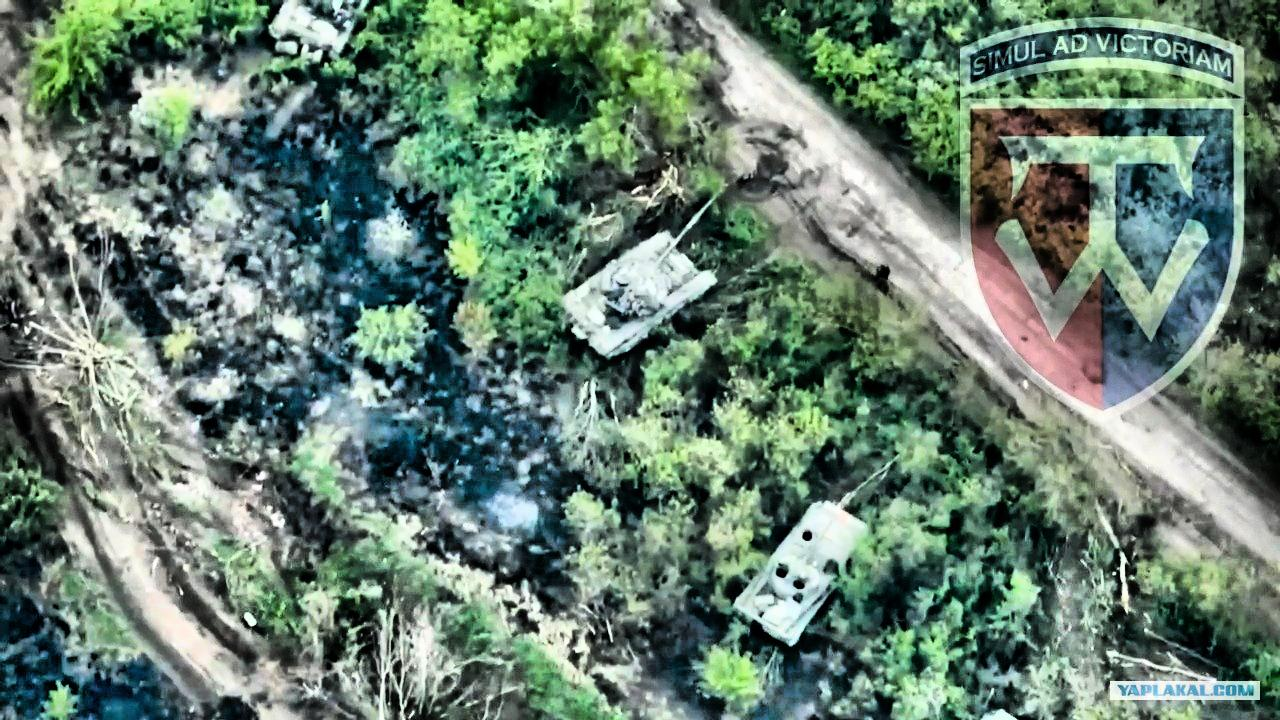military-vehicle: (554, 192, 728, 360), (734, 500, 869, 644)
